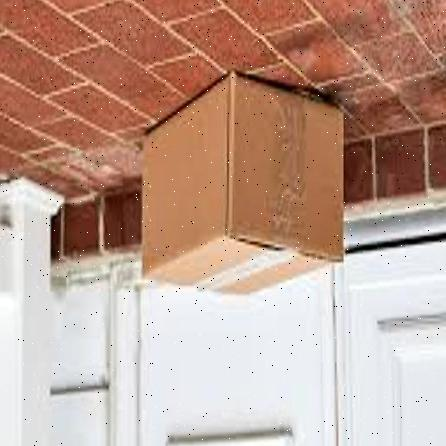Other: (136, 69, 349, 300)
